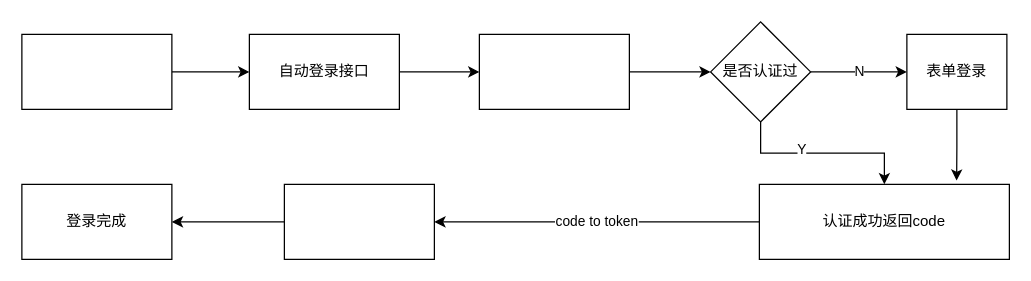
The diagram is 1031 pixels wide and 281 high, and some of its shapes have lost their labels. The box of each missing label's shape, as (x1, y1, x2, y2) in pixels:
App: (21, 33, 172, 109)
v6拿到code去换token: (283, 183, 434, 259)
调用KC去认证: (478, 33, 629, 109)
